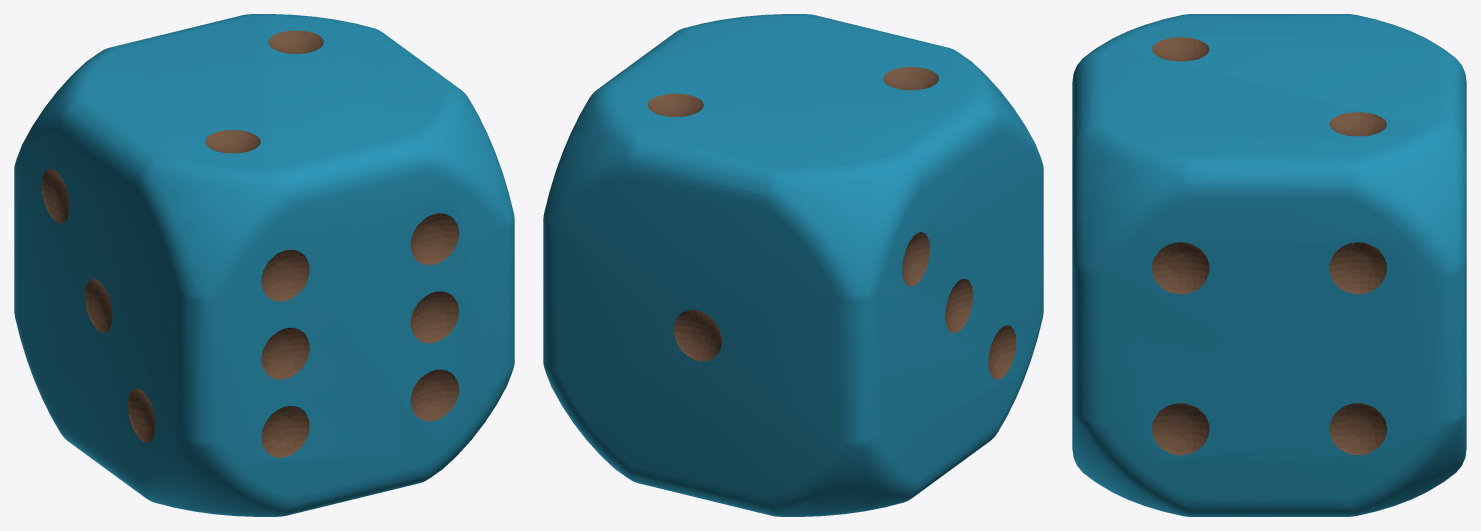
Rendered from Die Dotted Primary Cyan.glb.
3 renders of one model, left to right at view 1: azimuth 30°, elevation 25°; view 2: azimuth 150°, elevation 25°; view 3: azimuth 270°, elevation 25°, orthographic. The views are drawn at different scales.
Parts seen in each view (by area): view 1: Die_Body; view 2: Die_Body; view 3: Die_Body.
Part boxes in pixels (x1=…): Die_Body: x1=14, y1=14, x2=514, y2=516; Die_Body: x1=543, y1=14, x2=1043, y2=516; Die_Body: x1=1072, y1=14, x2=1466, y2=516.
Bounding box in the file's own units: 1 × 1 × 1.
